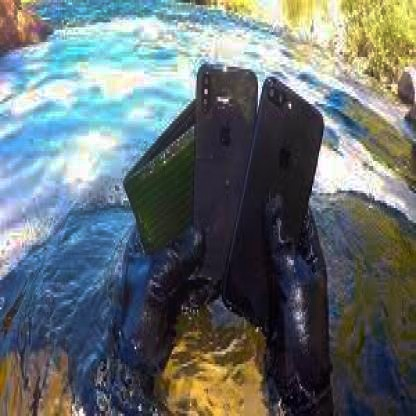cellphone: (229, 77, 323, 322), (196, 62, 260, 297)
